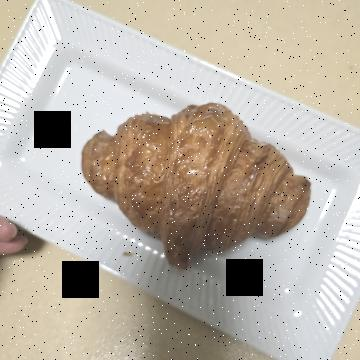croissant: (104, 40, 297, 292)
